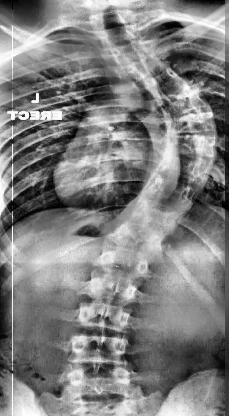Vertebrae: (145, 100, 223, 138), (62, 367, 140, 398), (68, 332, 134, 366), (156, 128, 222, 160), (122, 205, 176, 241), (94, 250, 154, 282), (104, 229, 164, 261), (84, 269, 136, 305), (144, 188, 198, 220), (160, 155, 212, 187), (78, 302, 128, 334), (150, 171, 200, 203), (146, 72, 200, 98), (110, 43, 156, 59), (98, 28, 146, 42), (128, 61, 173, 75)
